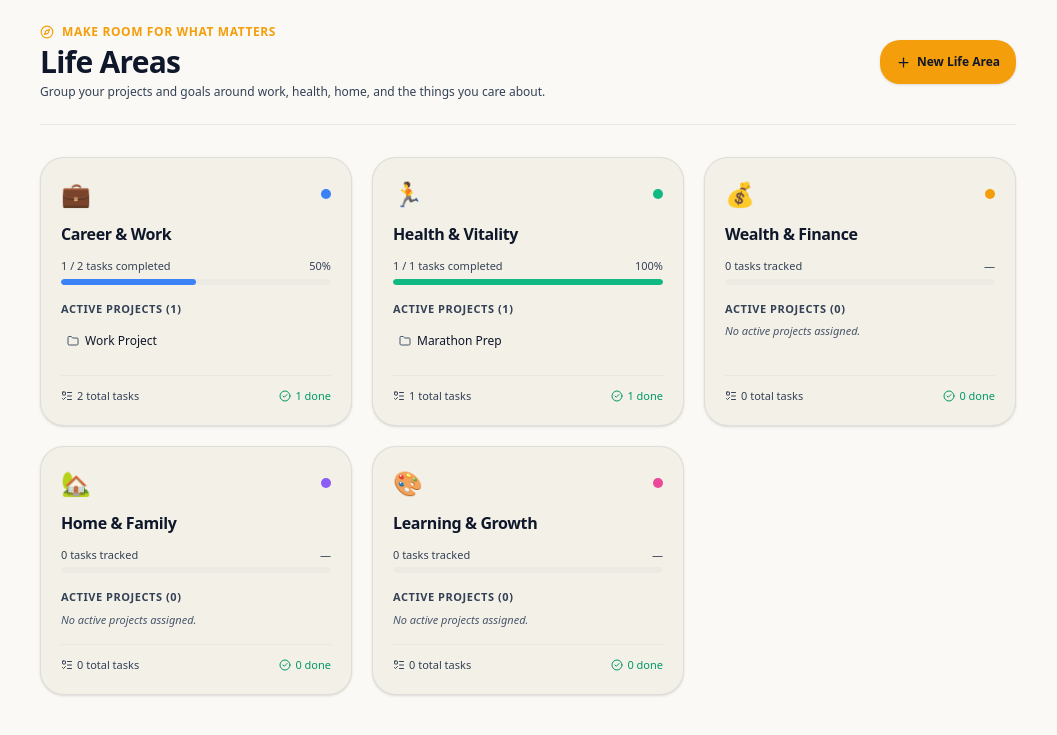
it: LifeAreasView › navigates to Area Detail view when an area card is clicked and back
What coordinates should you click on to do the following:
click the element with test id "area-card-area-career"
I would click on:
 (196, 291)
Its box is [40,157,352,426].
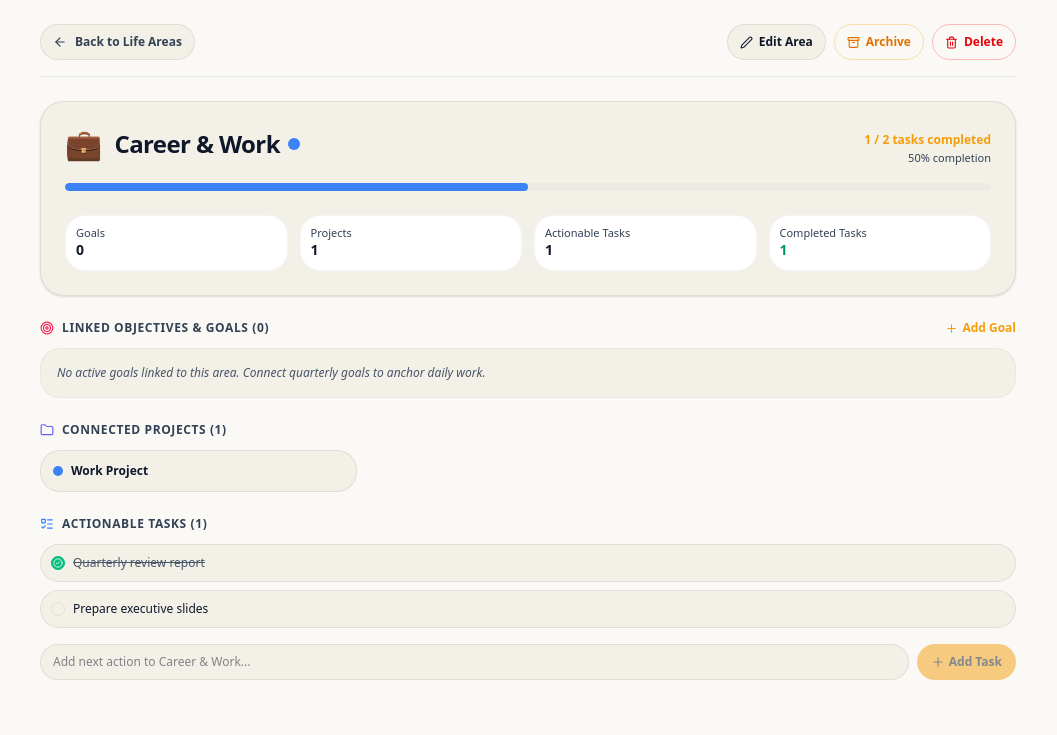
Now the element with test id "area-detail-view" is shown
Now the text "Back to Life Areas" is shown, box [75,34,182,50]
What coordinates should you click on to do the following:
click the button with test id "back-to-areas-button"
I would click on:
 (117, 42)
Its box is [40,24,195,60].
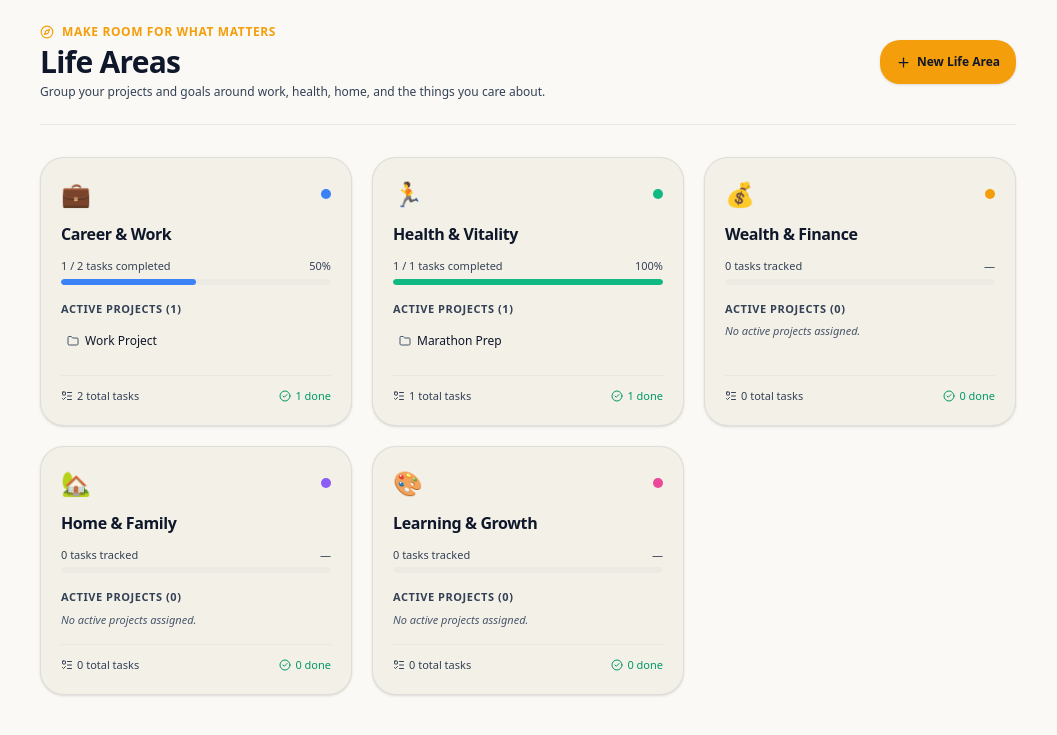
Now the element with test id "life-areas-view" is shown
